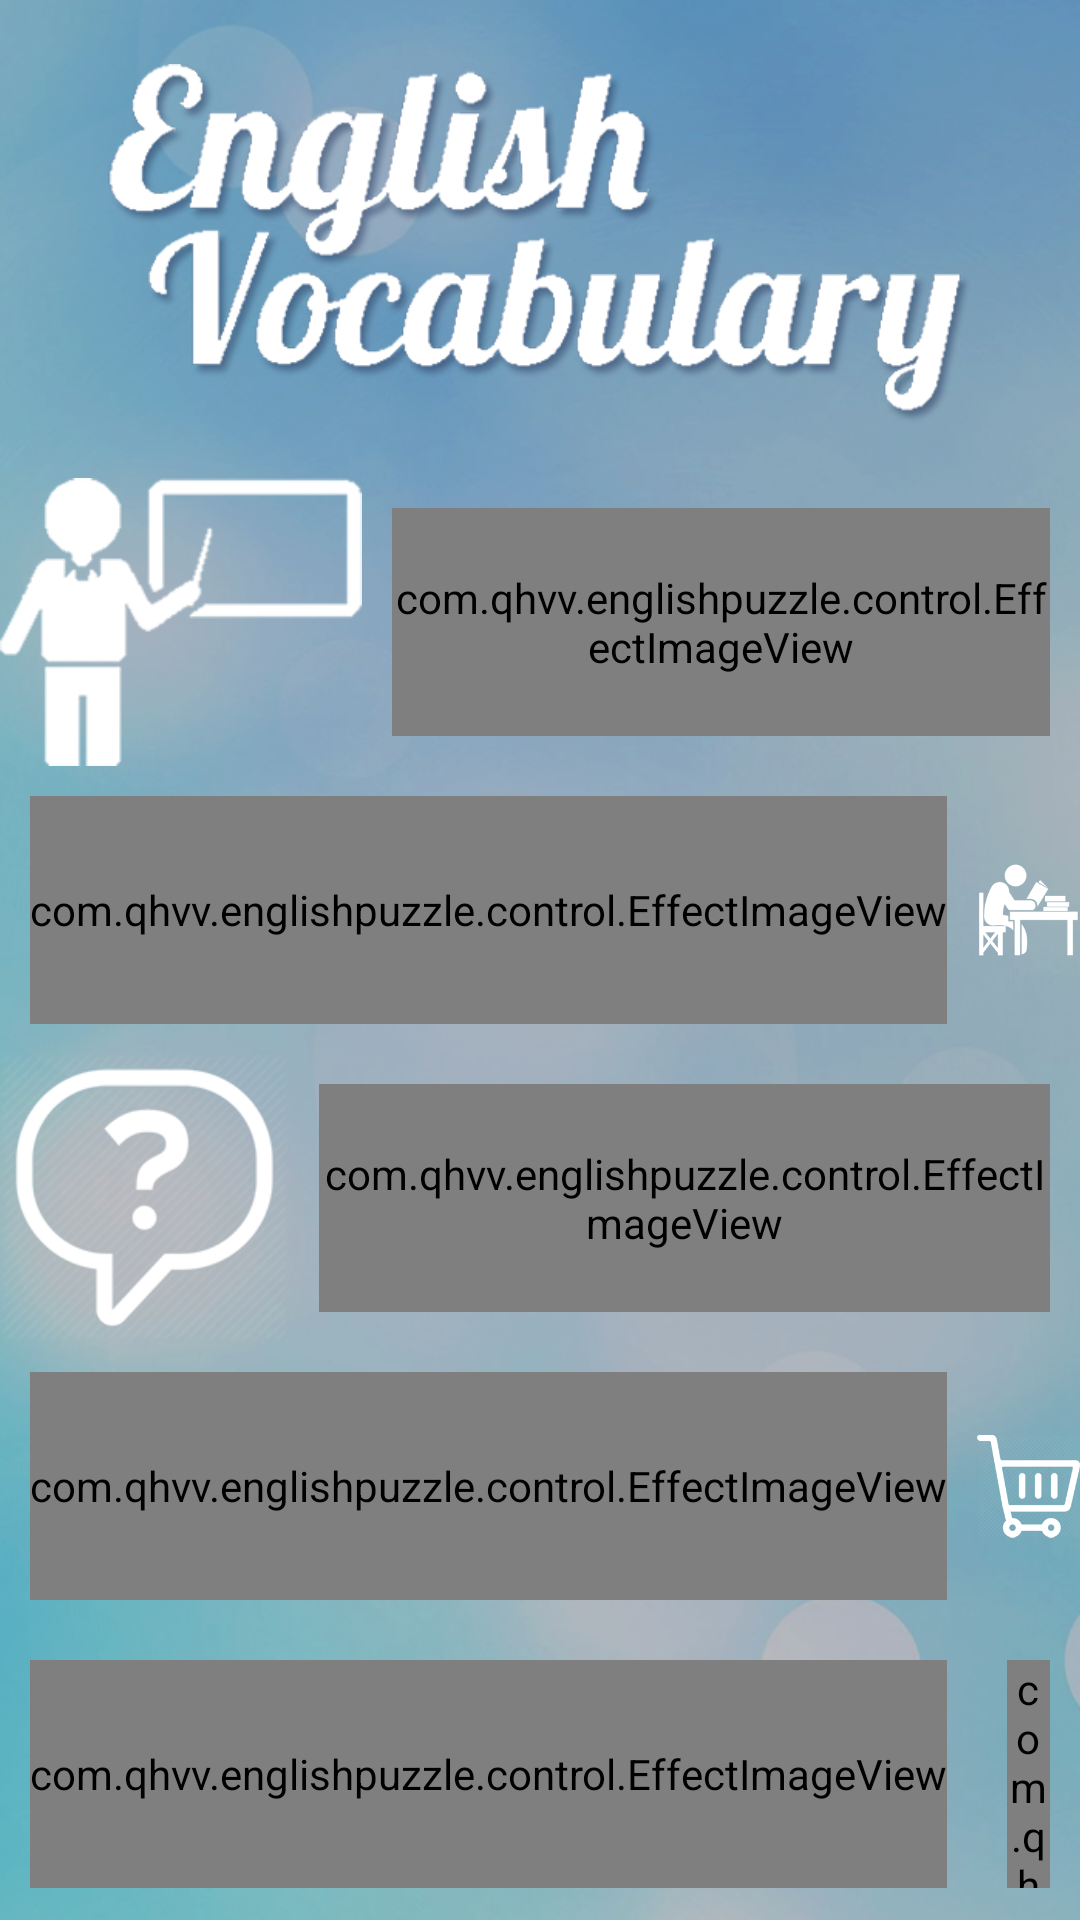

Point at icon controls on the screen. Image size 1080x1920, points as (x,y).
exercise: (1028,861)
quiz: (144,1198)
